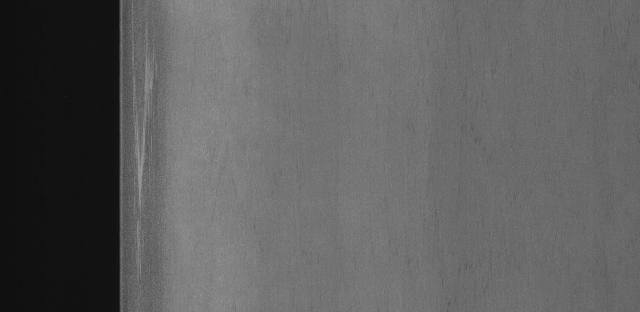silk_spot: (120, 9, 203, 243)
